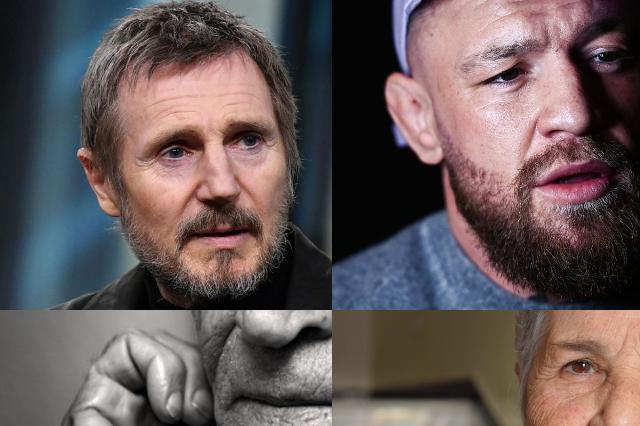crows_feet: (133, 154, 155, 174), (538, 358, 556, 382), (266, 135, 278, 151)
forehead: (152, 96, 198, 122), (218, 89, 256, 113), (480, 10, 516, 28), (474, 0, 513, 8), (523, 0, 581, 4)
frown_line: (612, 332, 628, 356), (634, 333, 640, 359)
gummy_smile: (212, 320, 238, 374), (236, 177, 254, 203), (183, 184, 197, 210)
